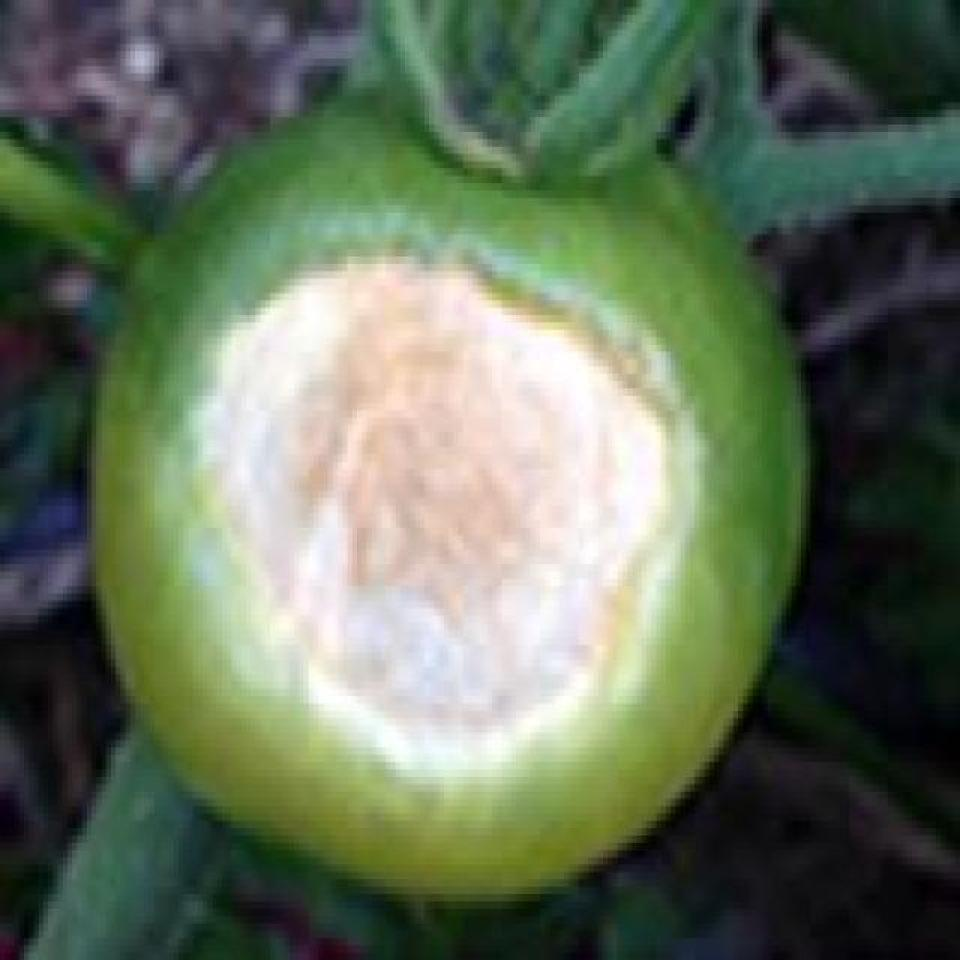Sunscald: (159, 216, 714, 802)
